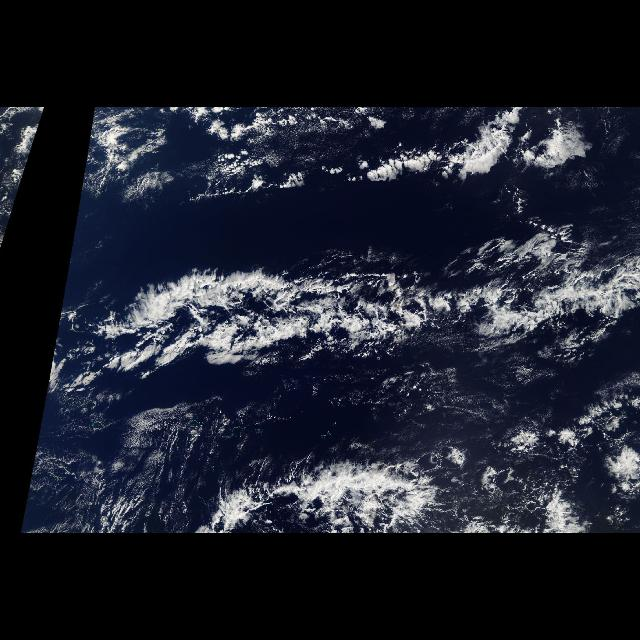Fish: (35, 194, 640, 452), (3, 194, 19, 246)
